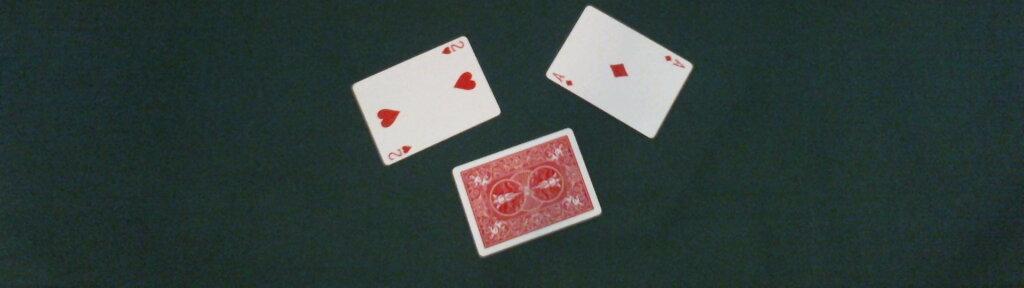ace: (544, 6, 693, 139)
back: (452, 127, 602, 257)
two: (350, 36, 502, 167)
